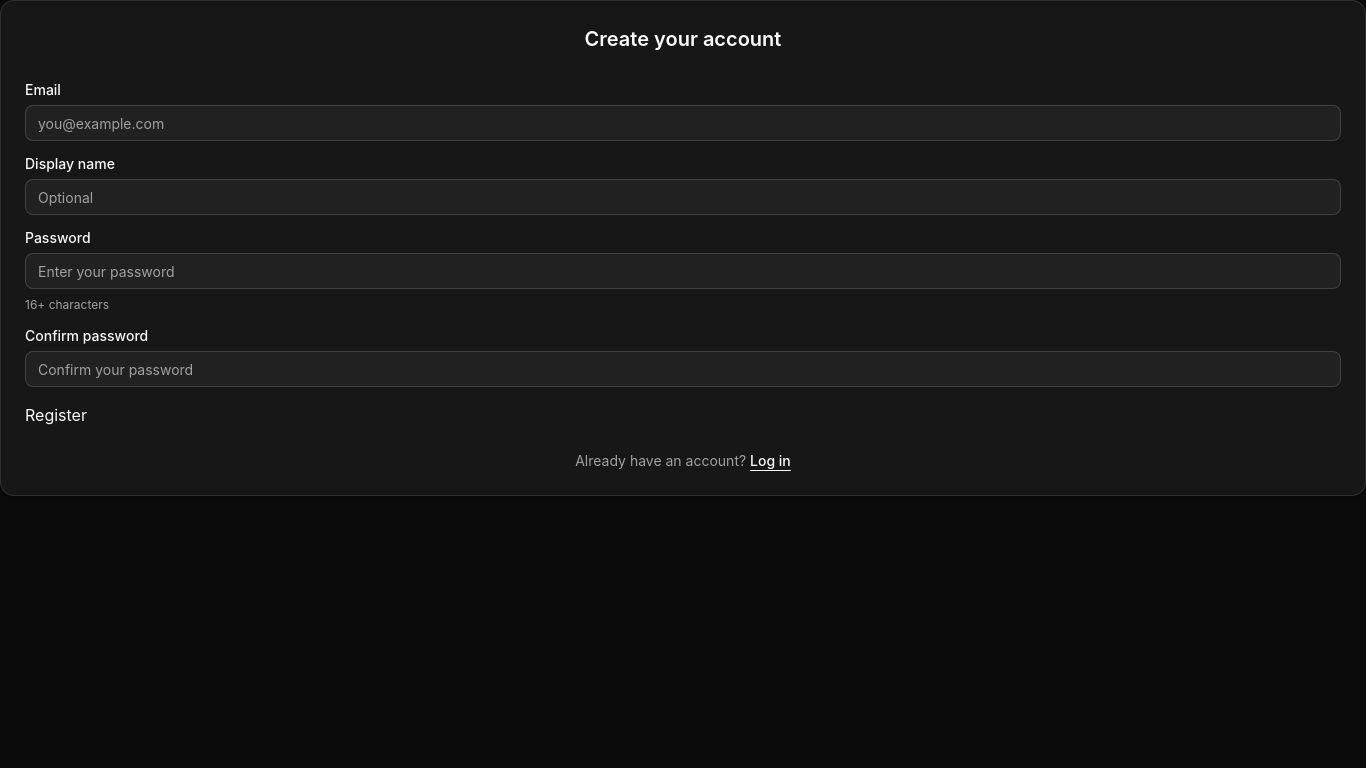
RegisterView › client-side validation › shows error when passwords do not match
This screenshot has width=1366, height=768.
Type "user@example.com" into the field labelled "Email".
click(683, 123); type("user@example.com")  # box [25, 105, 1341, 141]
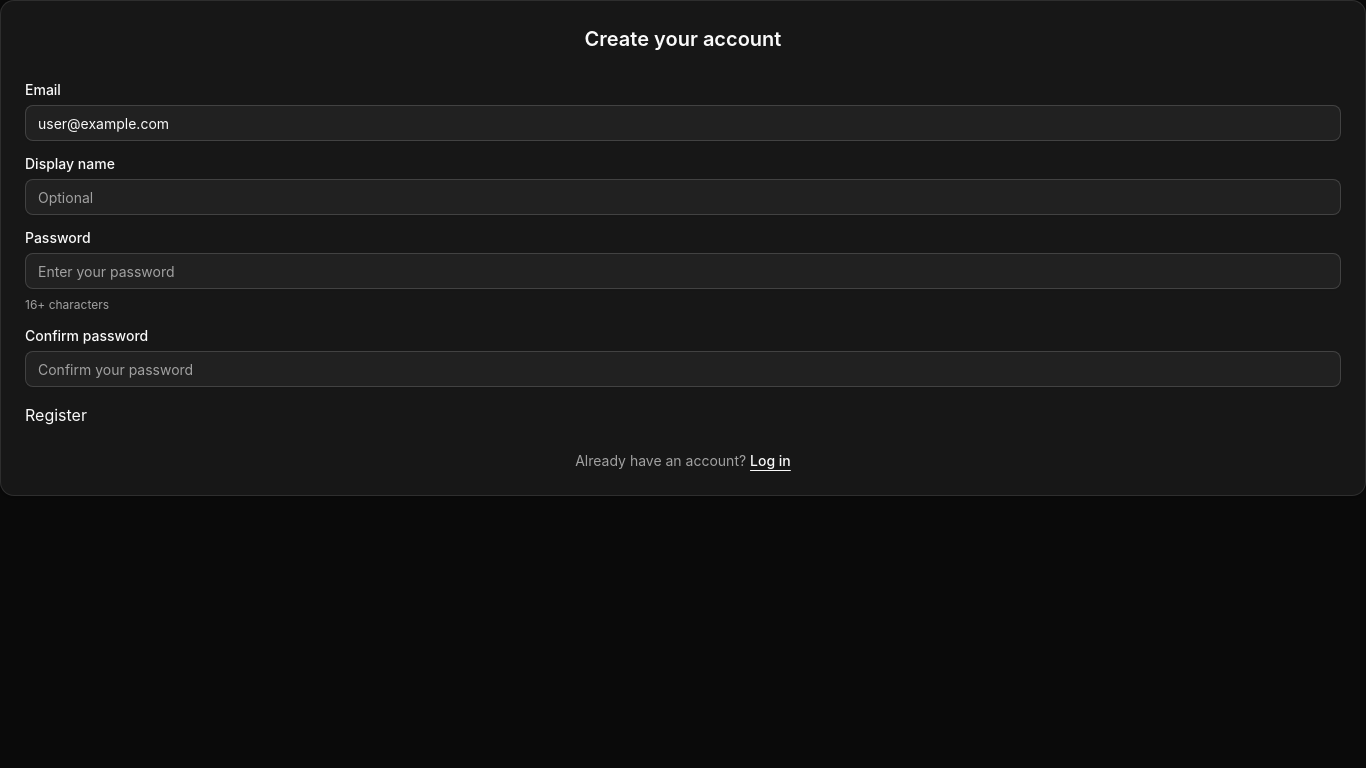
Type "abcdefghijklmnop" into the password field labelled "Password".
click(683, 271); type("abcdefghijklmnop")  # box [25, 253, 1341, 289]
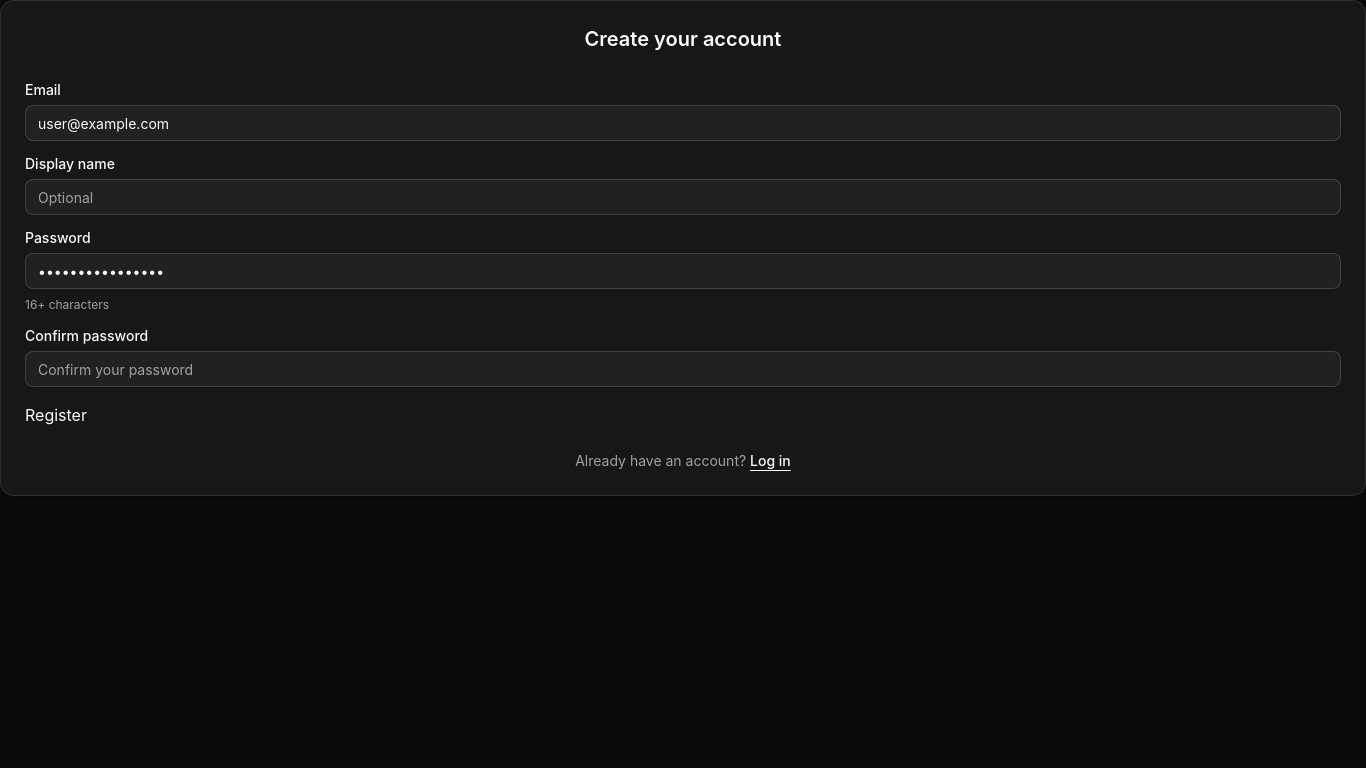
Type "different-password" into the password field with id "confirm-password".
click(683, 369); type("different-password")  # box [25, 351, 1341, 387]
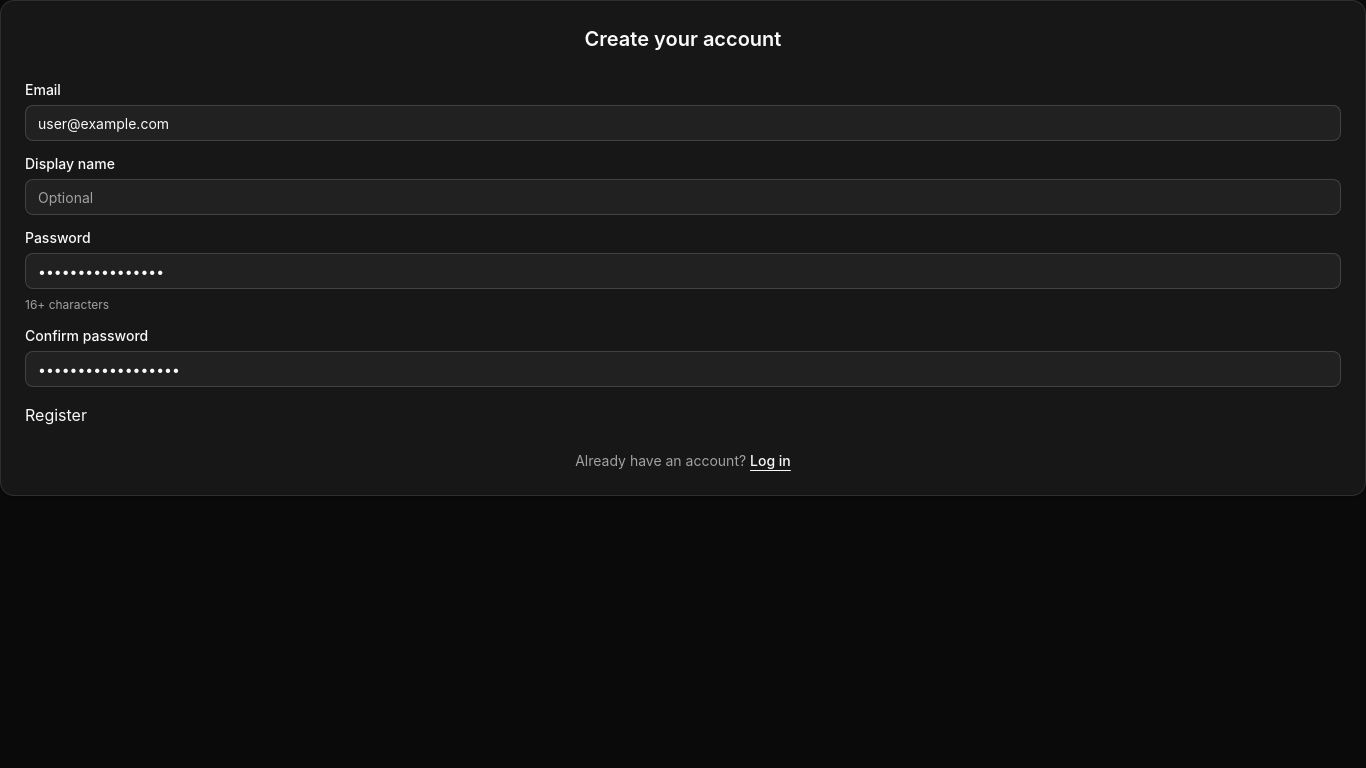
Submit the form, box [25, 83, 1341, 427]
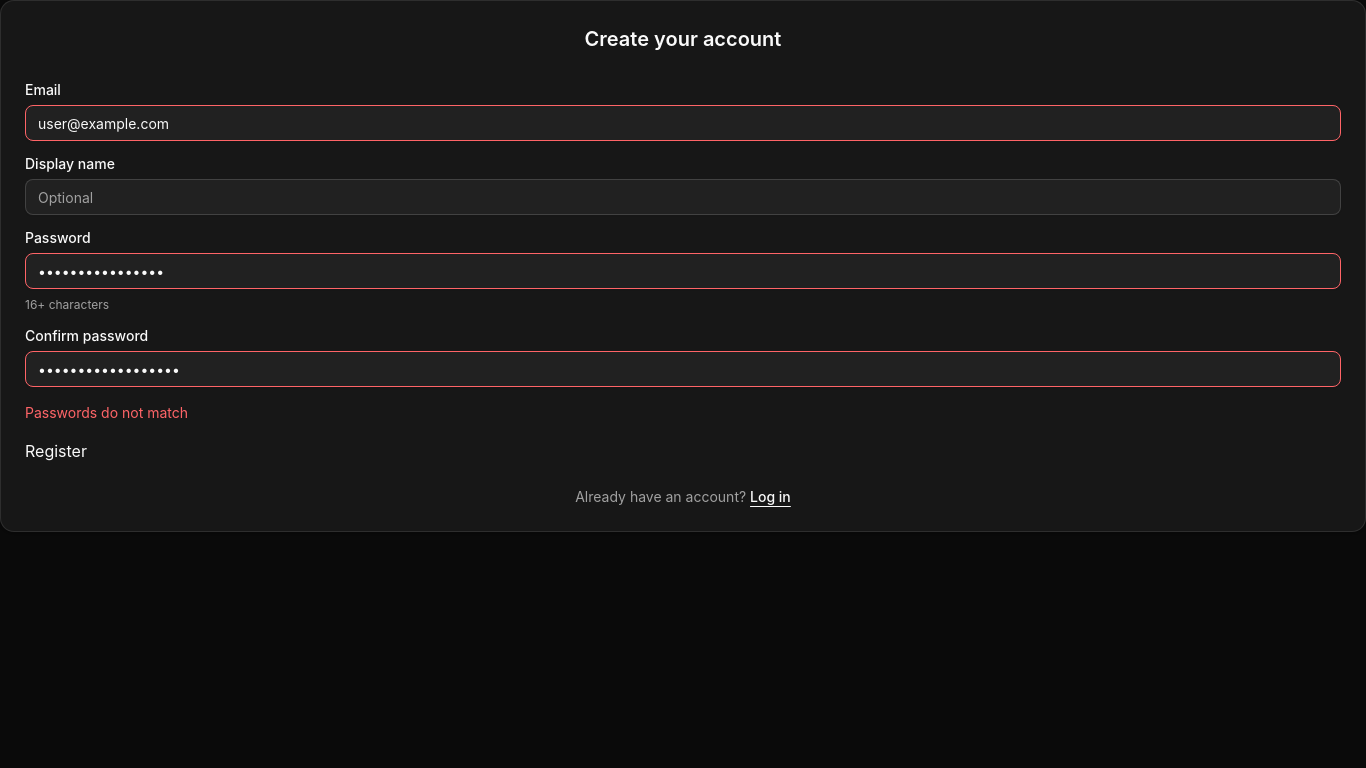
Check: the text "Passwords do not match" is shown, box [25, 404, 188, 421]
